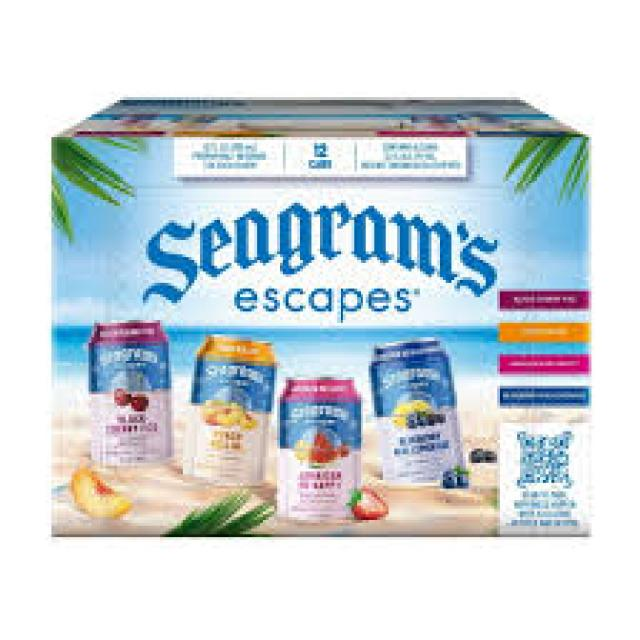Cans: (366, 334, 477, 497), (83, 308, 180, 472), (183, 326, 277, 494), (274, 371, 363, 526)
